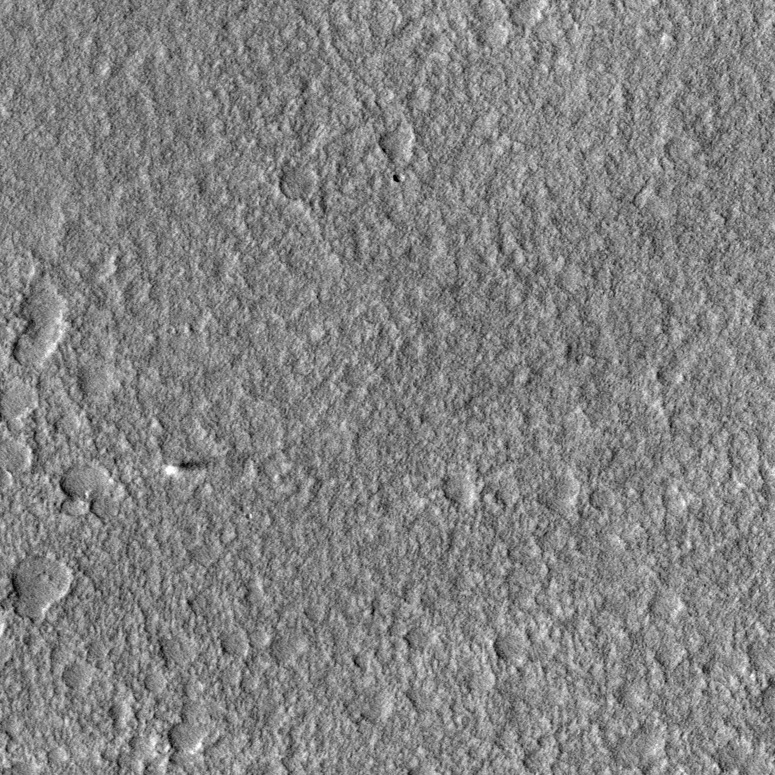dust_devil: (163, 458, 218, 477)
